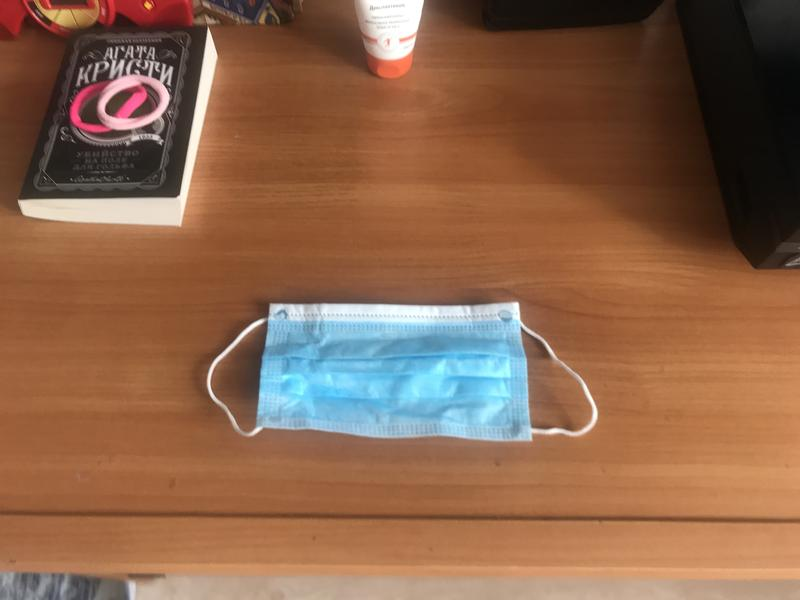medical_mask: (207, 298, 598, 445)
